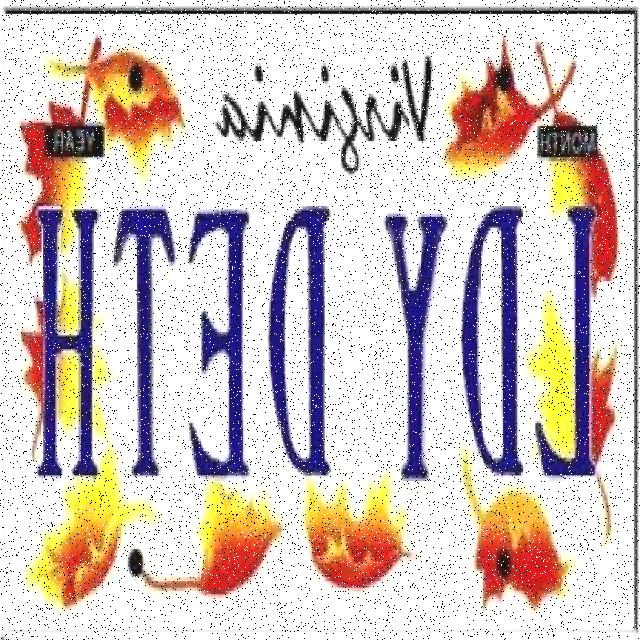licenseplate: (19, 191, 610, 511)
